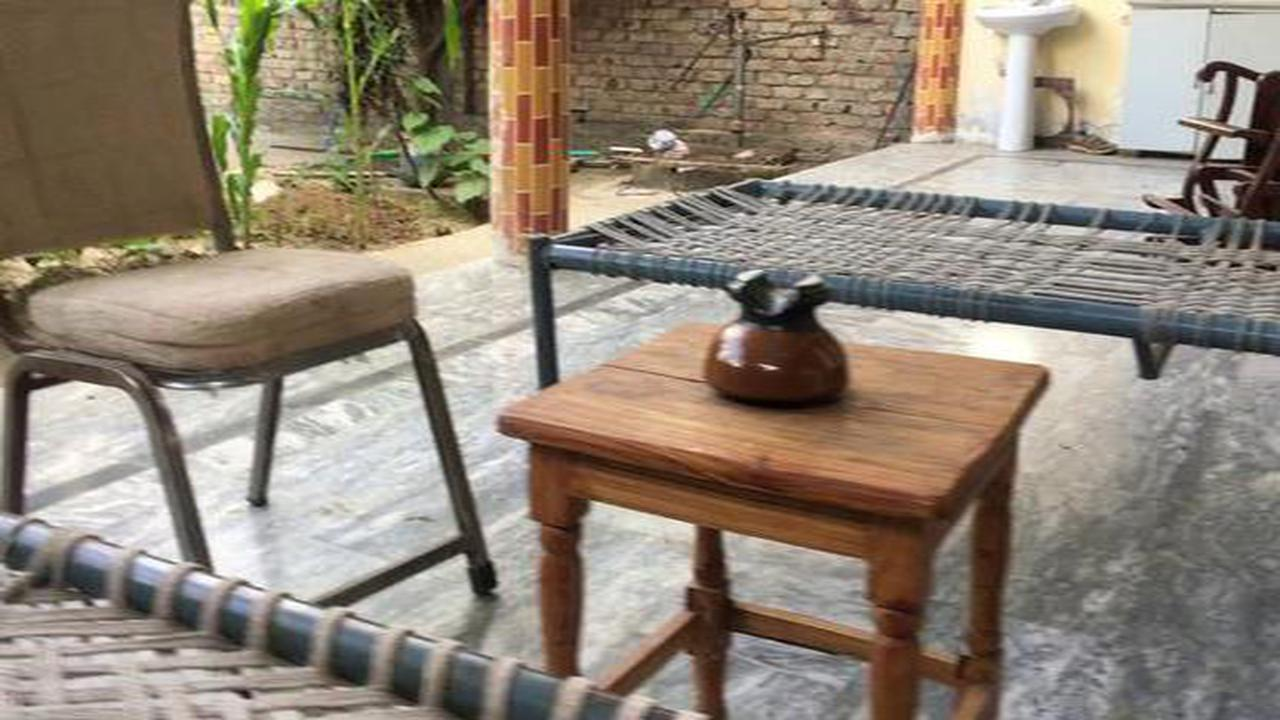insulator_pin: (687, 246, 859, 421)
